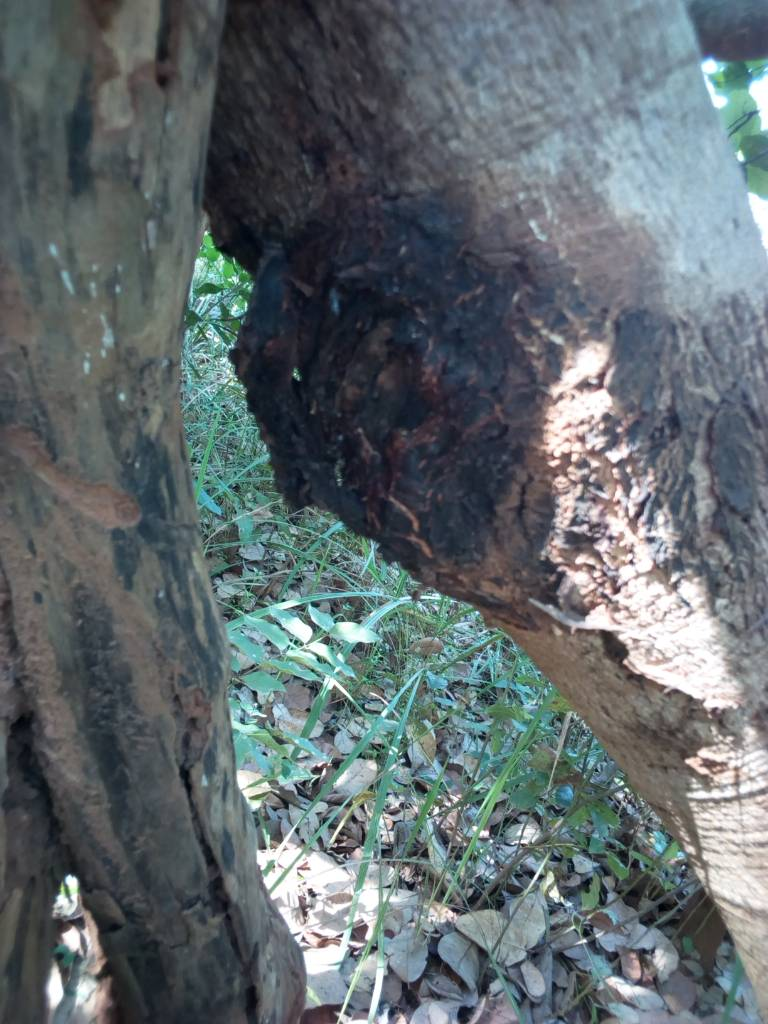Termites: (11, 10, 215, 1007)
